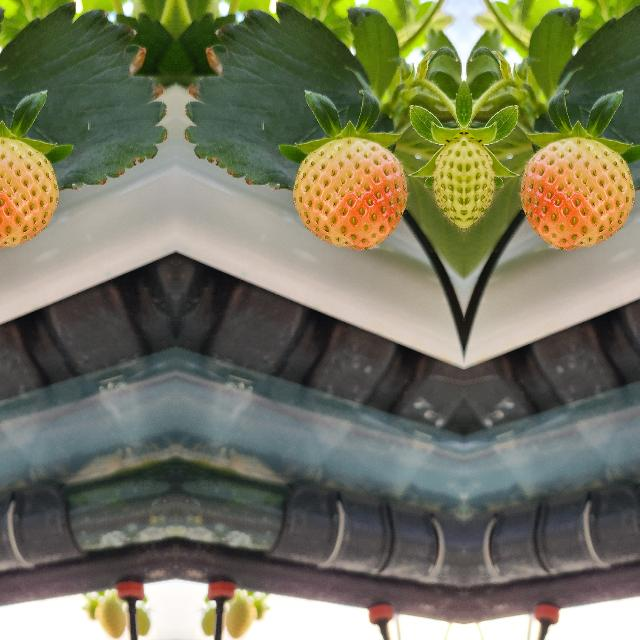Health_75: (292, 137, 406, 251), (520, 137, 634, 251), (0, 137, 57, 251)
